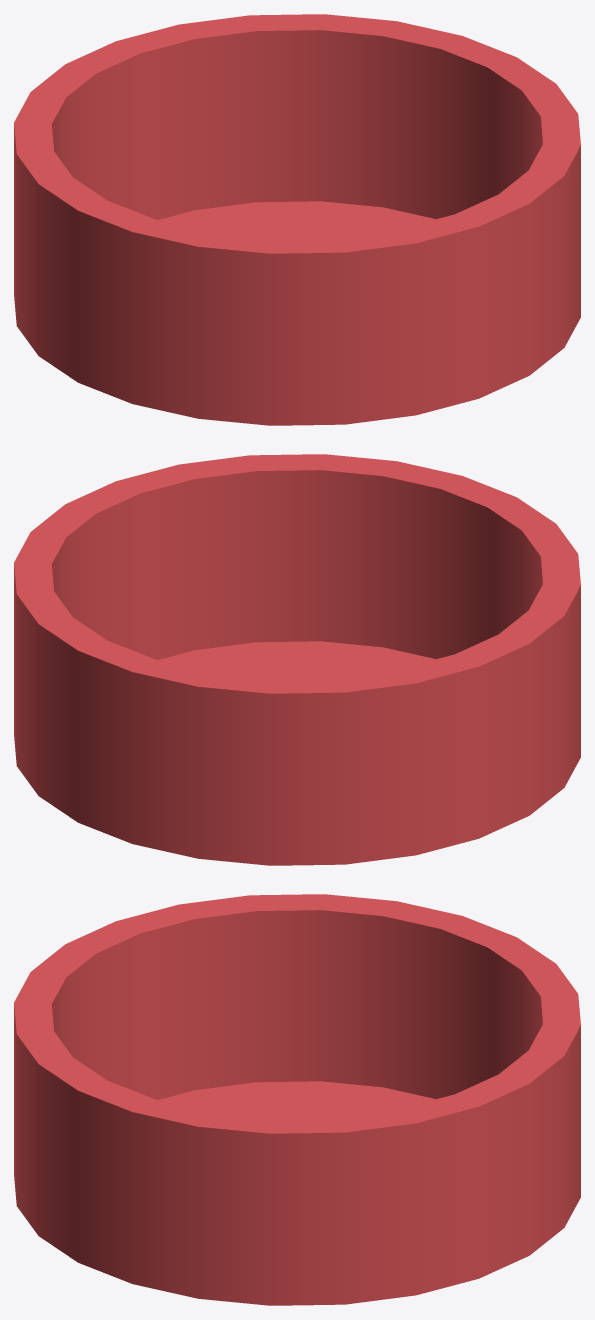
File: dogDish.dae
The picture shows the model from 3 angles, top to bottom: view 1: azimuth 30°, elevation 25°; view 2: azimuth 150°, elevation 25°; view 3: azimuth 270°, elevation 25°; orthographic projection.
Visible parts, largest first — view 1: SketchUp_001; view 2: SketchUp_001; view 3: SketchUp_001.
Boxes of the visible parts, x1,y1,x2,y2 form: SketchUp_001: (14,14,580,425); SketchUp_001: (14,454,580,865); SketchUp_001: (14,894,580,1305).
Size of the model in its own units: 0.2987 by 0.2987 by 0.1.
